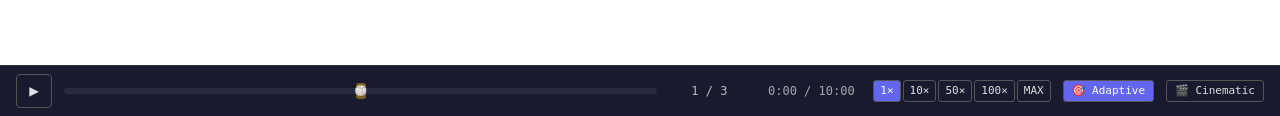
Test: ReplayControls chapter tooltip time › tooltip shows actual timestamp offset, not index-ratio approximation
Hover over the button "🏐".
mouse_move(361, 91)  # box left=356, top=83, right=366, bottom=99
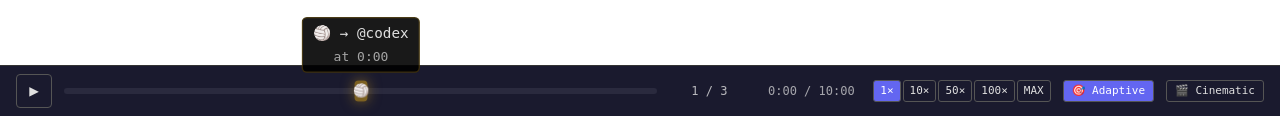
Expected: the tooltip "🏐 → @codex at 0:00" is shown, left=301, top=16, right=420, bottom=73
